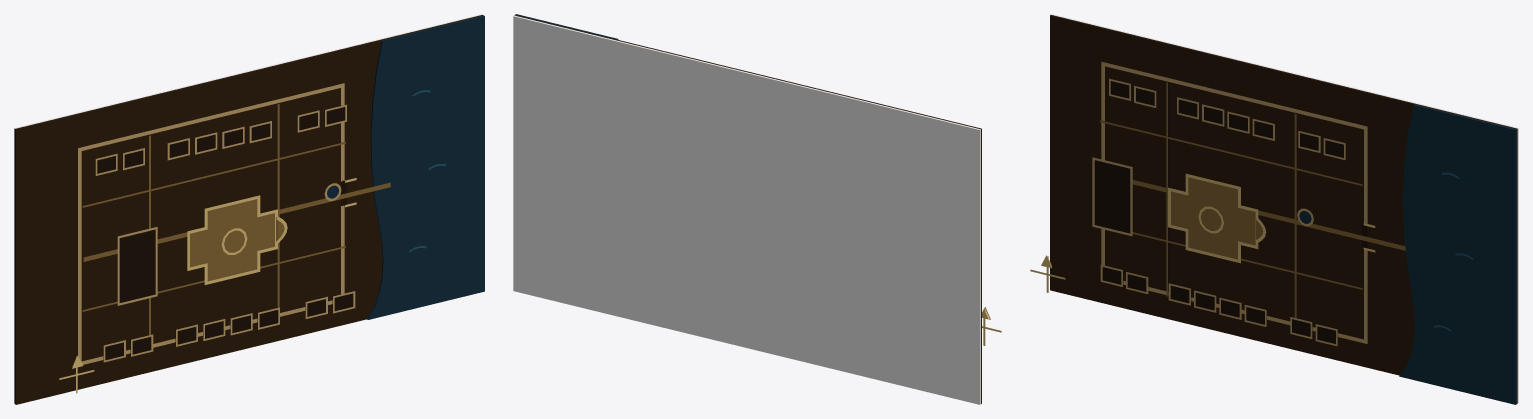
File: loc-plan-obiteli.glb
3 views of the same model, side by side, from view 1: azimuth 30°, elevation 25°; view 2: azimuth 150°, elevation 25°; view 3: azimuth 330°, elevation 25° (orthographic).
Parts seen in each view (by area): view 1: loc-plan-obiteli; view 2: loc-plan-obiteli; view 3: loc-plan-obiteli.
Boxes of the visible parts, box(x1,y1,x2,y2) form: loc-plan-obiteli: box(14, 14, 484, 404); loc-plan-obiteli: box(513, 14, 1001, 404); loc-plan-obiteli: box(1030, 14, 1518, 404).
Size of the model in its own units: 5.33 by 3 by 0.681.
